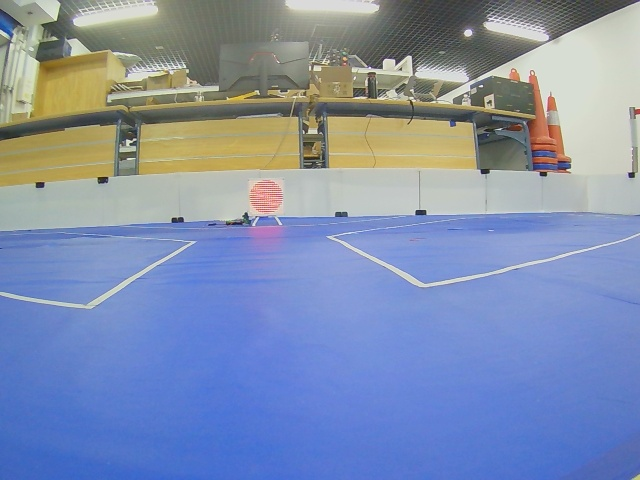red: (249, 179, 284, 216)
